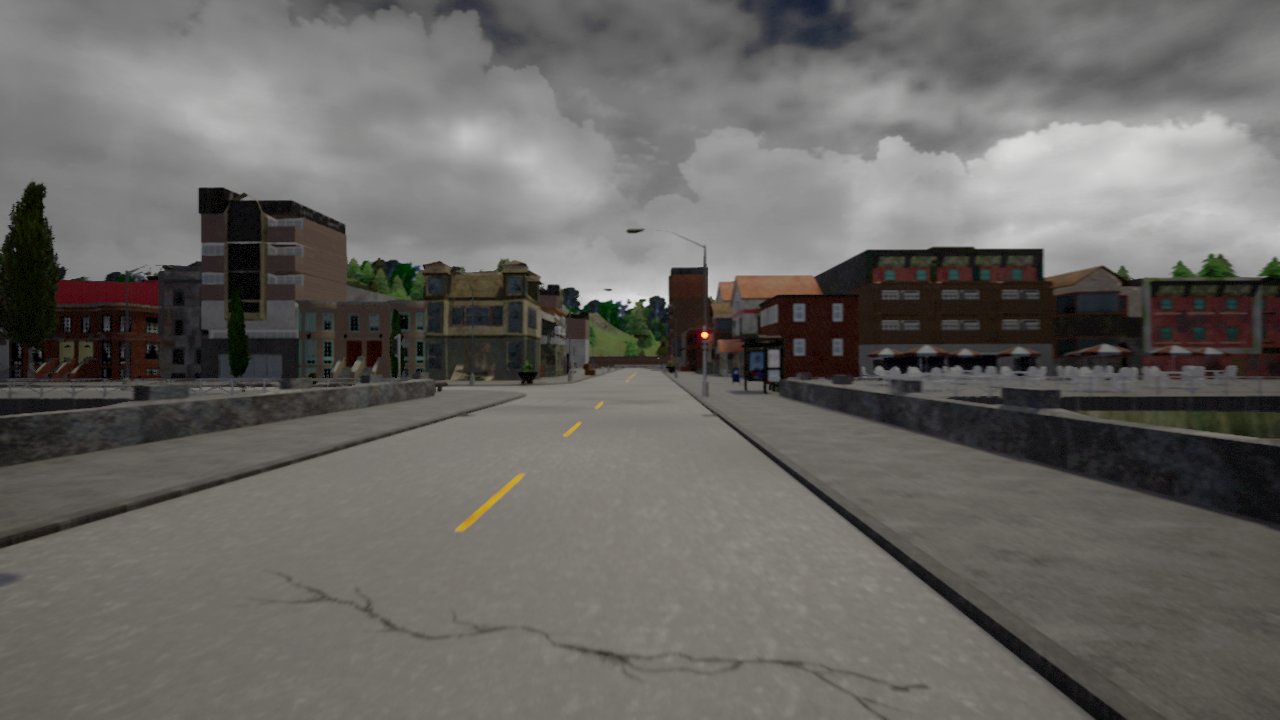red: (700, 331, 710, 352)
